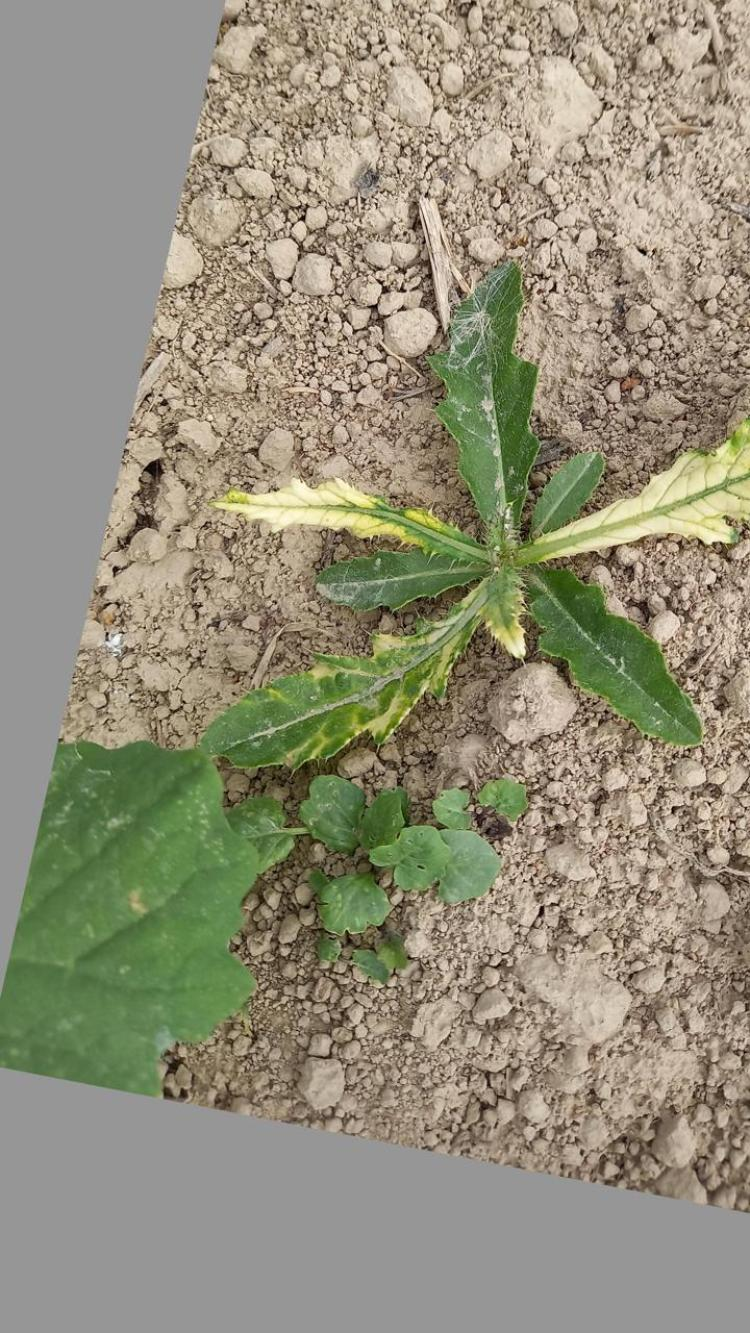bodyak: (187, 258, 750, 776)
